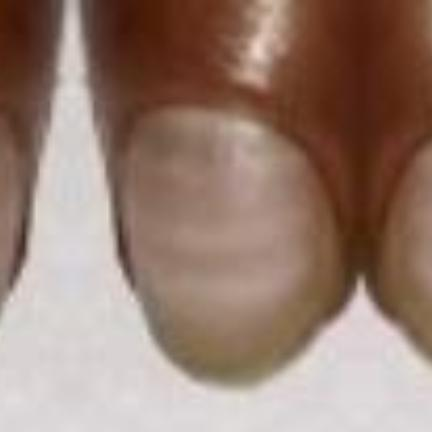Nail: (119, 105, 345, 391), (375, 138, 432, 367), (0, 107, 23, 325)
